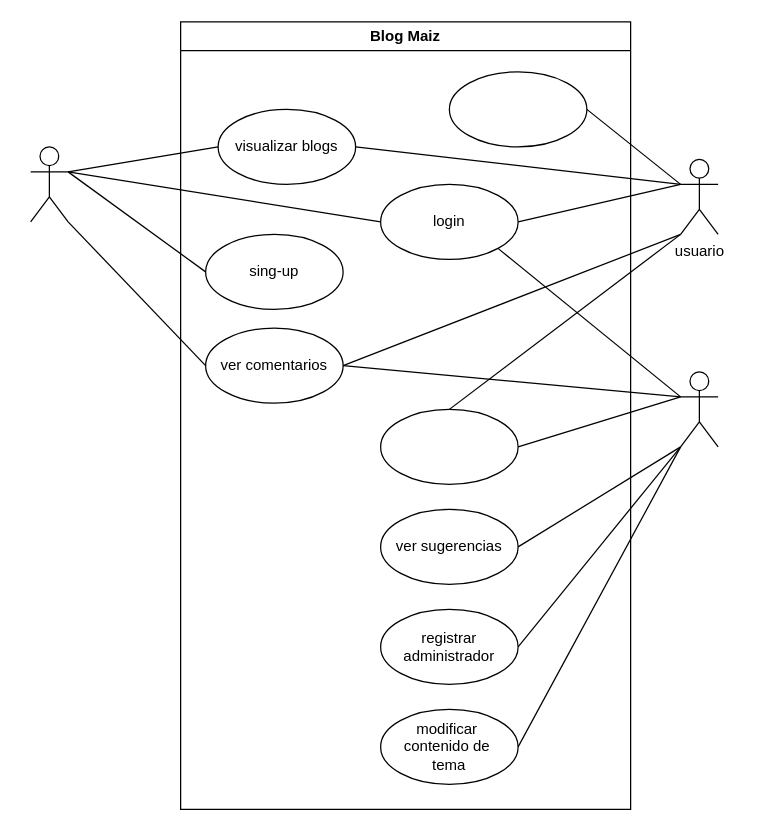
Image size: 766x831. Some labels were removed from this diagram. The centre of each missing label's shape, as x and y in pixels:
administrador: (698,409)
comentar: (448,446)
plantear sugerencias: (517,109)
visitante: (48,184)
